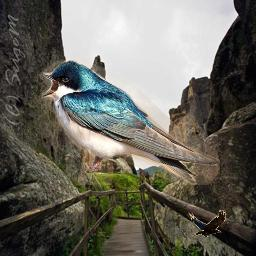Crow: (187, 210, 226, 237)
Swallow: (39, 58, 220, 185)
